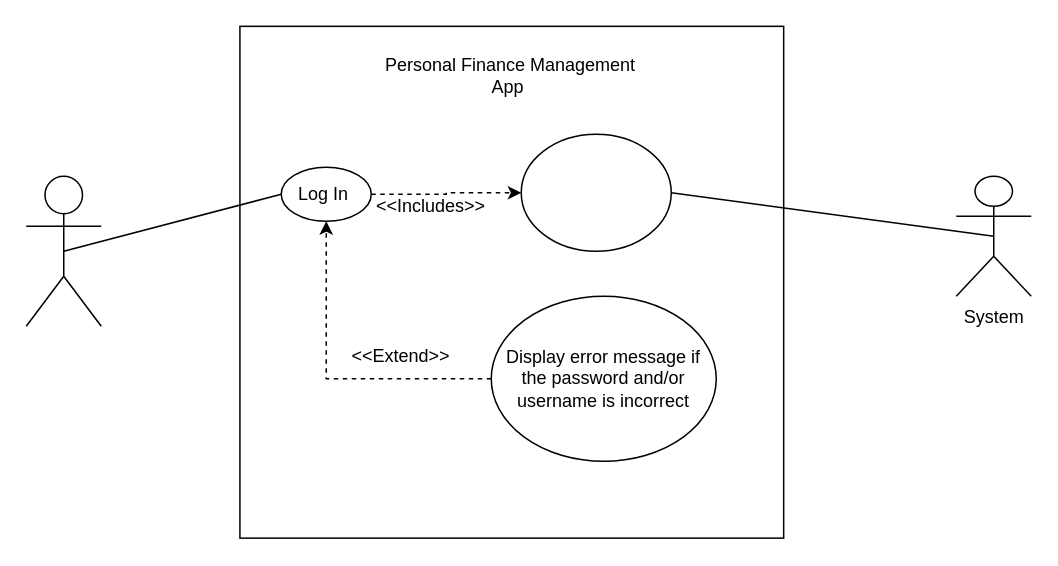
Some shapes in this 1058 by 566 pixel diagram are drawn without their labels. The shapes that lost their labels are listed below. From the top down, each one's centre as x and y in pixels, then its label:
[595,192]: Verify username and Password
[63,250]: User
